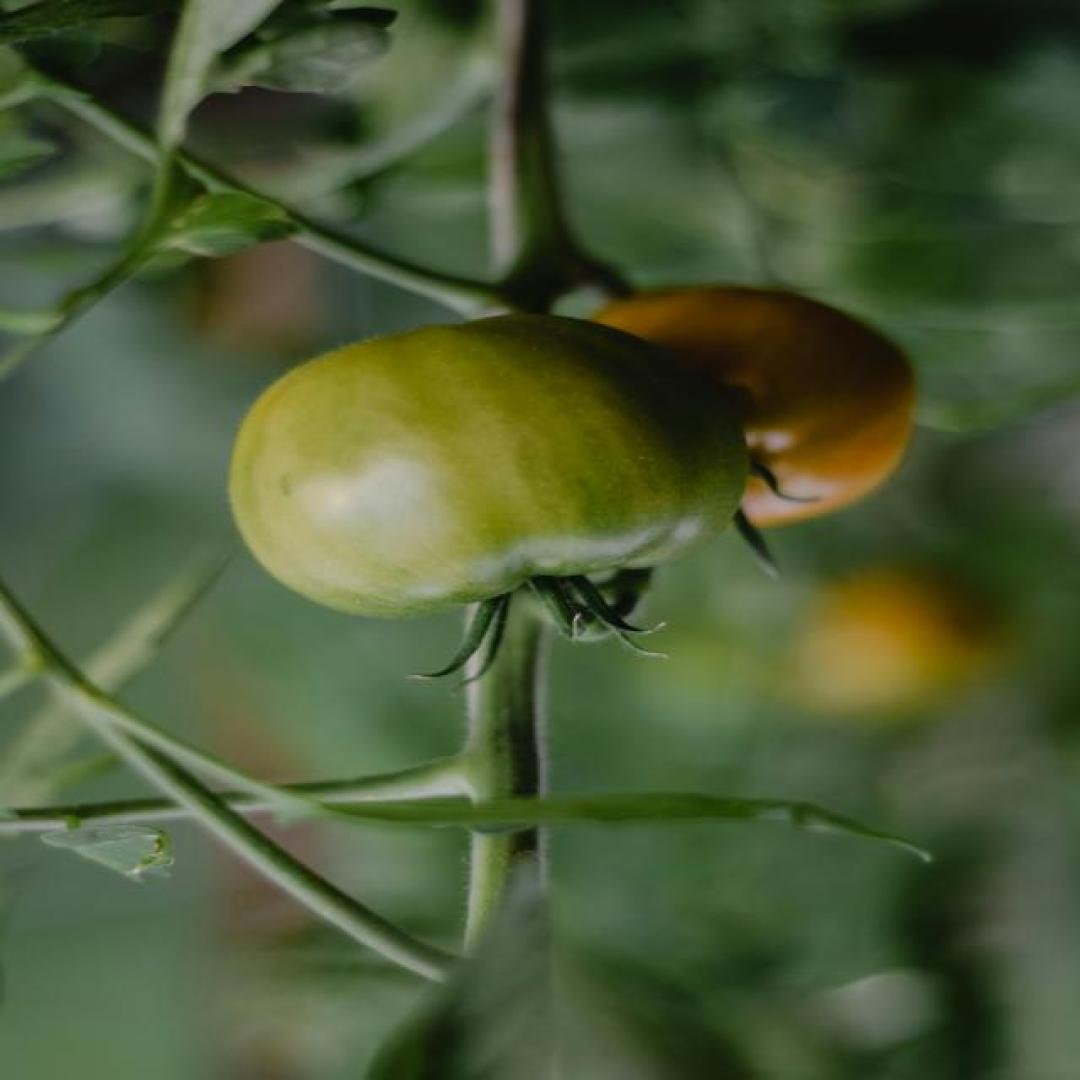mentah: (220, 310, 754, 614)
